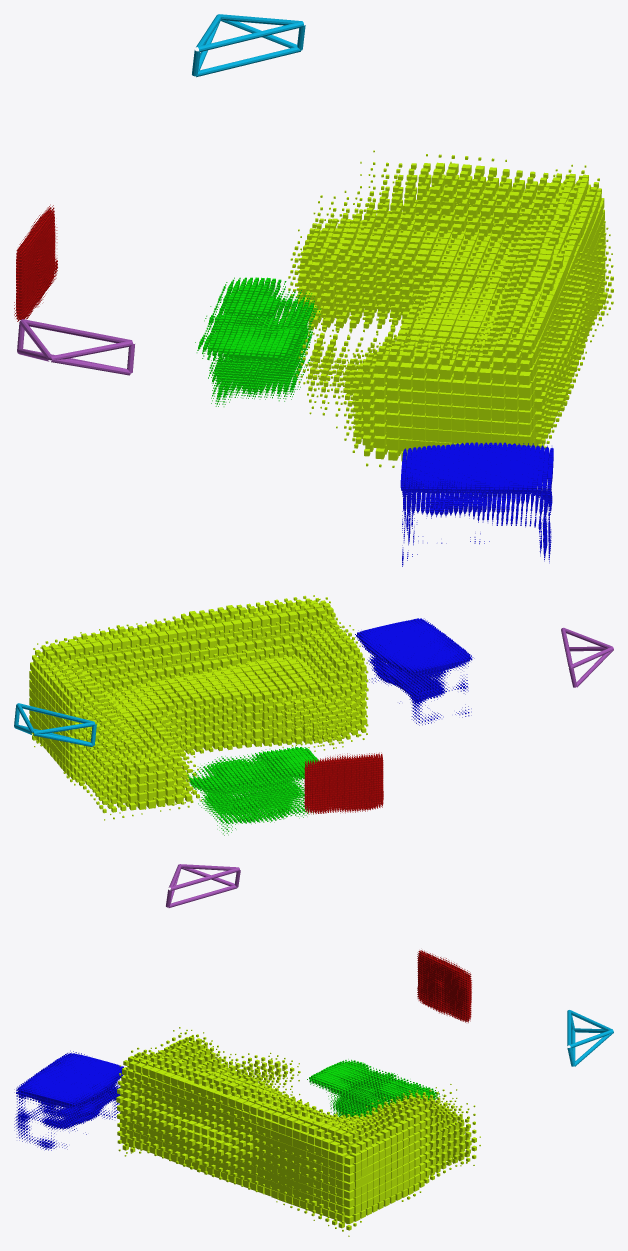
Rendered from Prediction.glb.
The picture shows the model from 3 angles, top to bottom: view 1: azimuth 30°, elevation 25°; view 2: azimuth 150°, elevation 25°; view 3: azimuth 270°, elevation 25°; orthographic projection. The views are drawn at different scales.
Parts seen in each view (by area): view 1: Node; view 2: Node; view 3: Node.
Boxes of the visible parts, <box> form: Node: <box>14,14,613,566</box>; Node: <box>14,595,613,835</box>; Node: <box>14,864,613,1236</box>.
Bounding box in the file's own units: 5.21 × 1.62 × 5.73.
